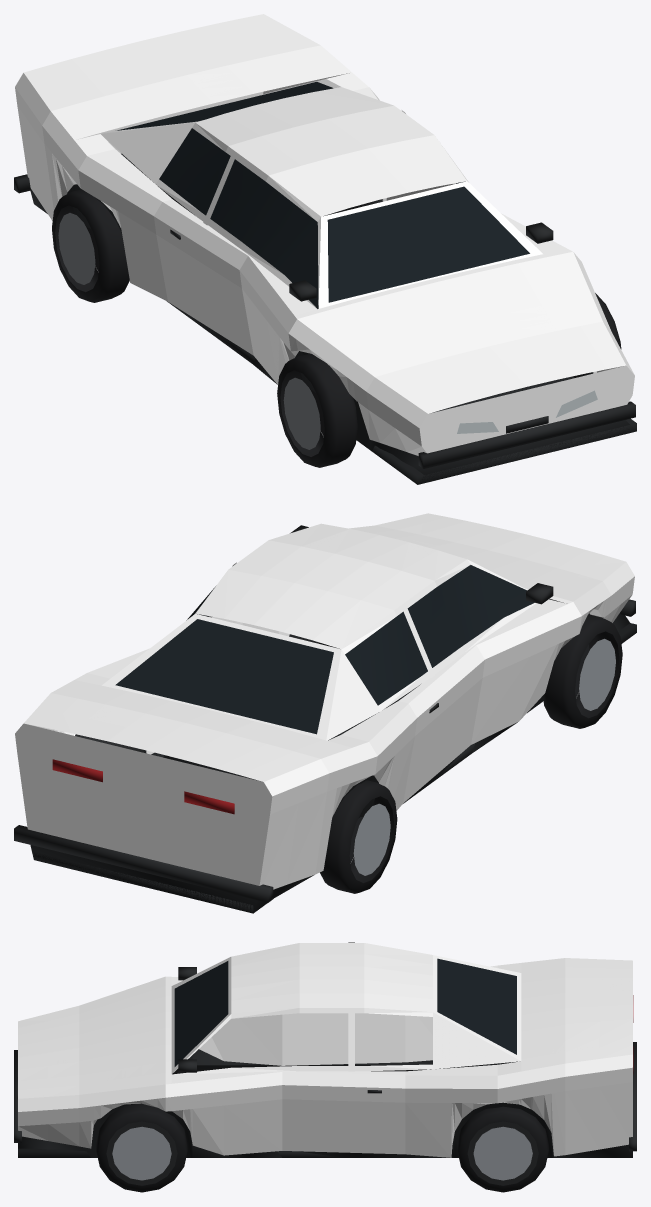
File: rauhe_cachoeira.glb
3 renders of one model, top to bottom at view 1: azimuth 30°, elevation 25°; view 2: azimuth 150°, elevation 25°; view 3: azimuth 270°, elevation 25°, orthographic. The views are drawn at different scales.
Visible parts, largest first — view 1: Body_Paint, Body_Details, Mount_FrontLeft_Wheel_Details, Mount_RearLeft_Wheel_Details; view 2: Body_Paint, Body_Details, Mount_FrontLeft_Wheel_Details, Mount_RearLeft_Wheel_Details; view 3: Body_Paint, Body_Details, Mount_FrontRight_Wheel_Details, Mount_RearRight_Wheel_Details.
Boxes of the visible parts, x1,y1,x2,y2 form: Body_Paint: (15, 14, 634, 455); Body_Details: (14, 82, 636, 484); Mount_FrontLeft_Wheel_Details: (277, 353, 357, 467); Mount_RearLeft_Wheel_Details: (52, 189, 129, 302); Body_Paint: (15, 513, 634, 889); Body_Details: (14, 525, 636, 913); Mount_FrontLeft_Wheel_Details: (543, 614, 622, 728); Mount_RearLeft_Wheel_Details: (320, 780, 397, 893); Body_Paint: (18, 942, 632, 1157); Body_Details: (14, 958, 636, 1157); Mount_FrontRight_Wheel_Details: (96, 1103, 187, 1192); Mount_RearRight_Wheel_Details: (457, 1106, 548, 1192).
Size of the model in its own units: 1.91 by 1.25 by 4.3.
Materials: 2 (1 with a texture image).
